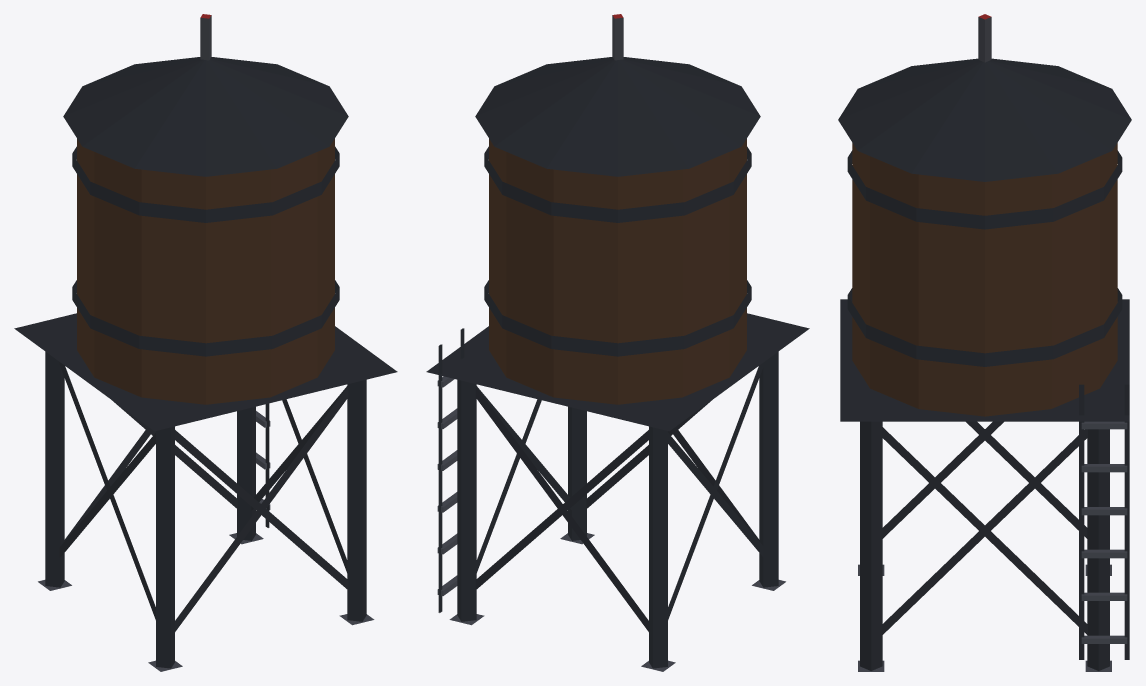
Rendered from mc-water_tower.glb.
The picture shows the model from 3 angles, left to right: view 1: azimuth 30°, elevation 25°; view 2: azimuth 150°, elevation 25°; view 3: azimuth 270°, elevation 25°; orthographic projection. The views are drawn at different scales.
Parts seen in each view (by area): view 1: prop_water_tower; view 2: prop_water_tower; view 3: prop_water_tower.
Boxes of the visible parts, x1,y1,x2,y2 form: prop_water_tower: (14, 14, 397, 671); prop_water_tower: (426, 14, 809, 671); prop_water_tower: (838, 14, 1131, 671).
Bounding box in the file's own units: 3.1 × 7 × 3.1.
Materials: 1 (1 with a texture image).
